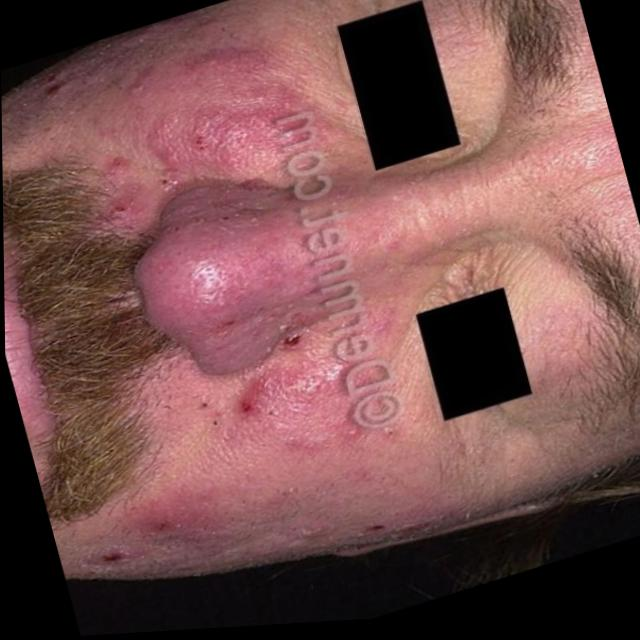Rosacea: (107, 13, 400, 500), (122, 481, 218, 577)
